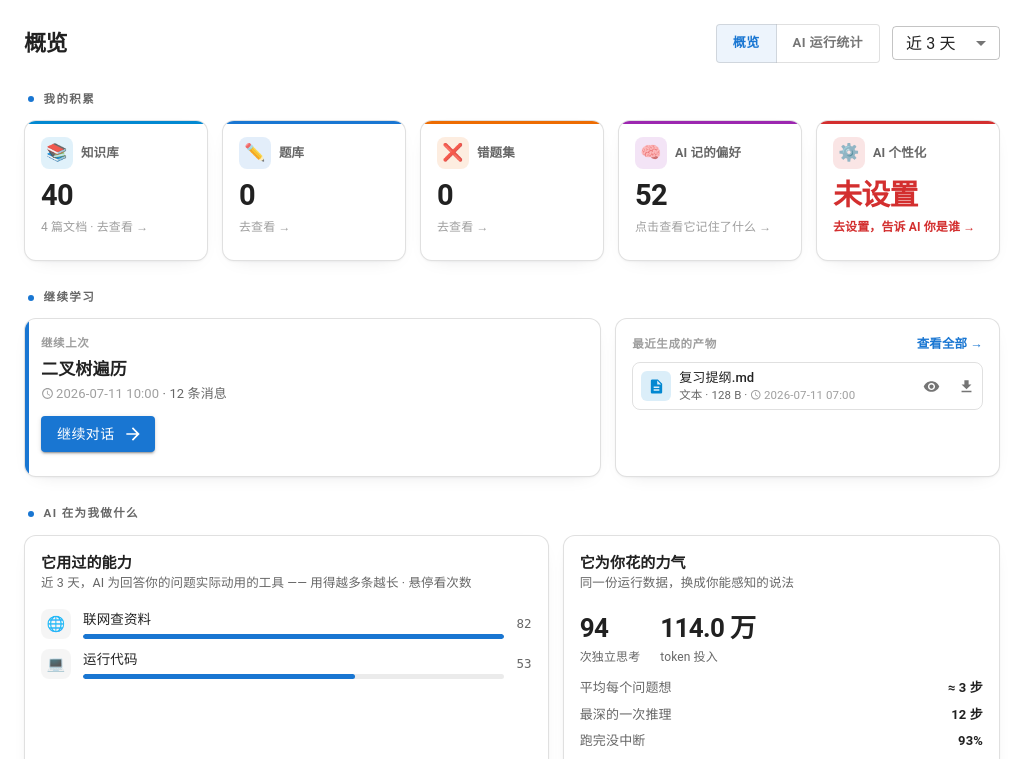
Scenario: HomeView › 打开偏好抽屉按总数请求，删除一条后卡片数字同步递减
Expected: the text "52" is shown, [635, 178, 667, 212]
Click the text "AI 记的偏好" at [708, 153], box [675, 144, 741, 162]
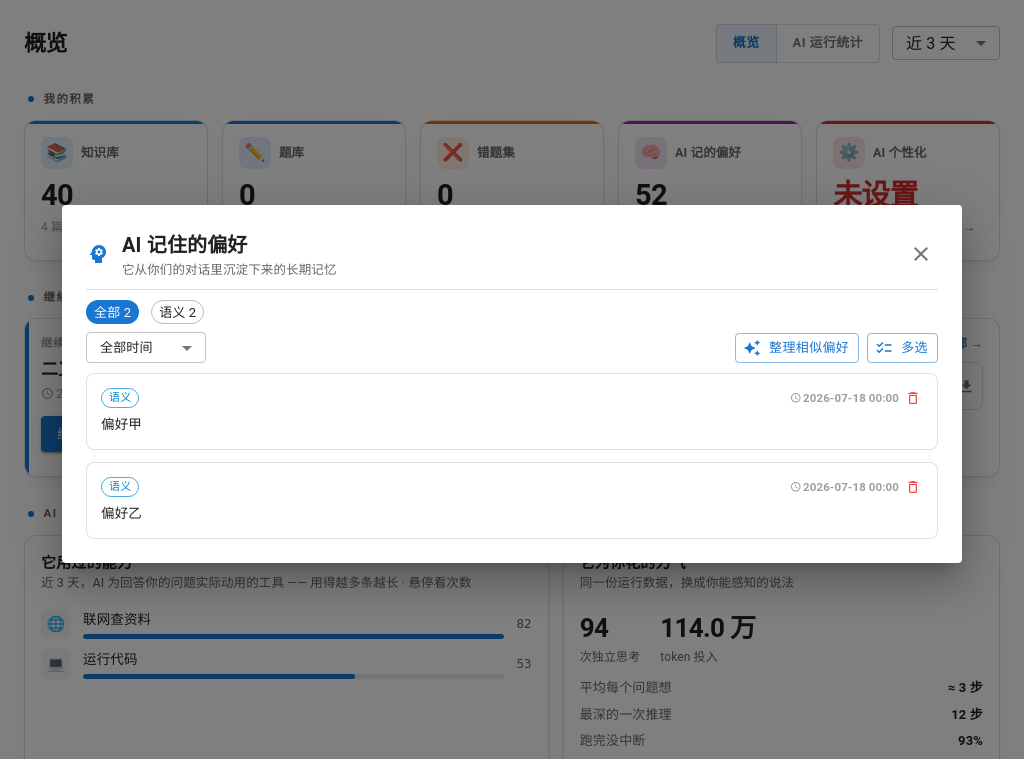
Now the text "偏好甲" is shown, box [101, 416, 142, 432]
Click the 1st button named "删除这条记忆" at [913, 398], box [903, 388, 923, 408]
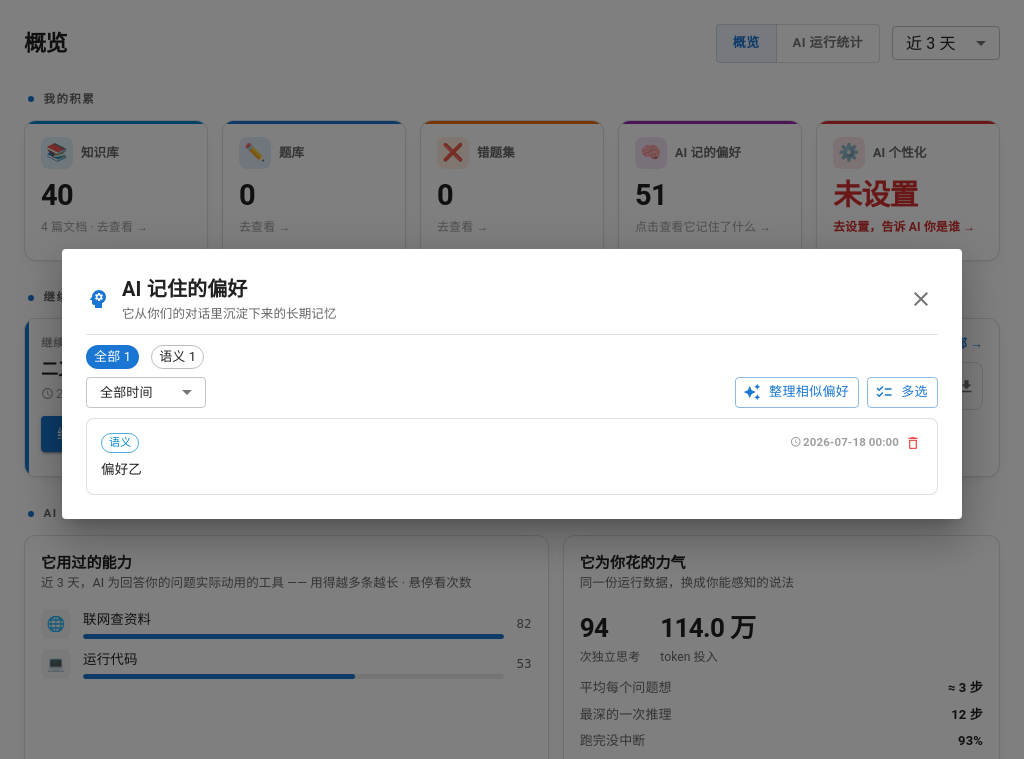
Now the text "51" is shown, box [635, 178, 667, 212]
Now the text "52" is gone
